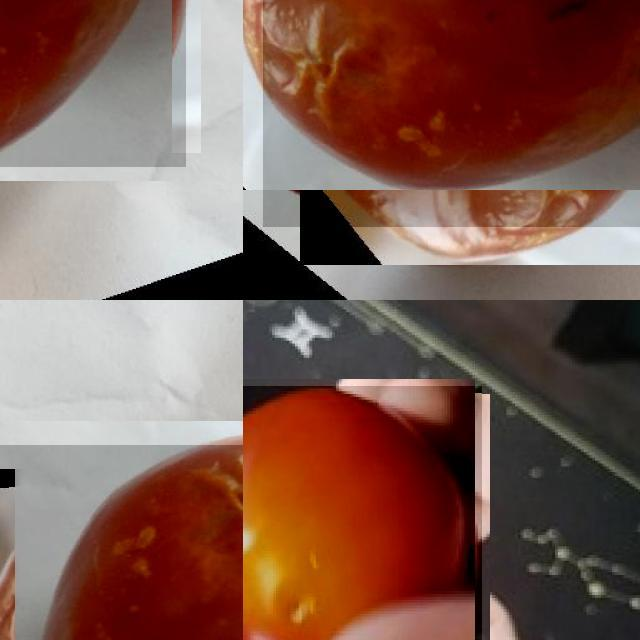Fresh Tomato: (243, 386, 482, 640)
Rotten Tomato: (262, 0, 640, 227), (0, 445, 243, 640), (0, 0, 186, 167)
